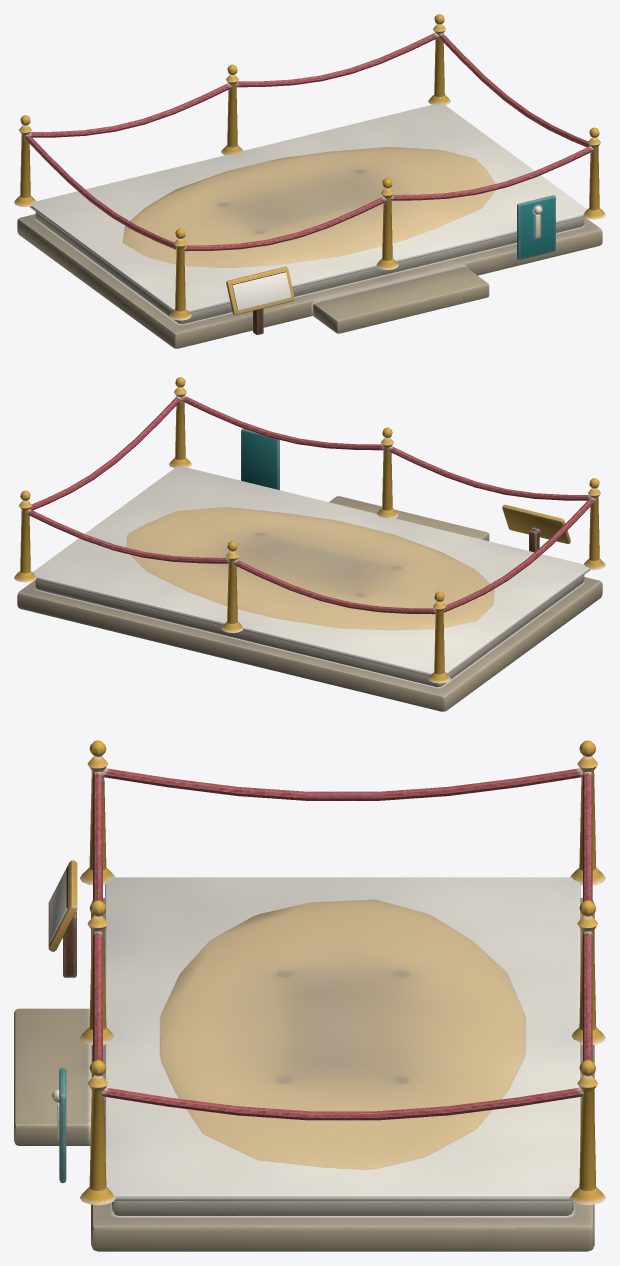
The model's file is mega_podium.glb.
3 renders of one model, top to bottom at view 1: azimuth 30°, elevation 25°; view 2: azimuth 150°, elevation 25°; view 3: azimuth 270°, elevation 25°, orthographic. The views are drawn at different scales.
Parts seen in each view (by area): view 1: SM_MegaPodium; view 2: SM_MegaPodium; view 3: SM_MegaPodium.
Boxes of the visible parts, x1=… form: SM_MegaPodium: x1=14, y1=14, x2=605, y2=348; SM_MegaPodium: x1=14, y1=377, x2=605, y2=711; SM_MegaPodium: x1=14, y1=740, x2=605, y2=1251.
Size of what is drawn, in the model's own units: 5.66 by 1.48 by 4.23.
1 material, 1 textured.
